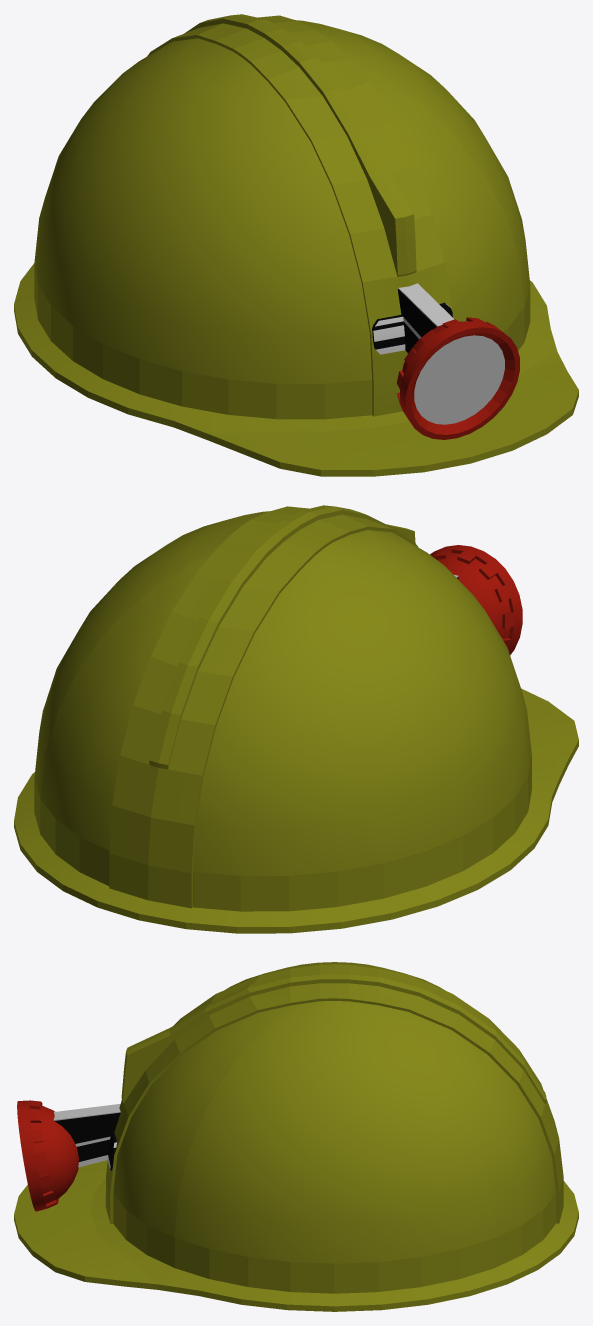
Rendered from mining helmet3.fbx.
The picture shows the model from 3 angles, top to bottom: view 1: azimuth 30°, elevation 25°; view 2: azimuth 150°, elevation 25°; view 3: azimuth 270°, elevation 25°; orthographic projection. The views are drawn at different scales.
Visible parts, largest first — view 1: helmet3, Object001, light, Box001; view 2: helmet3, Object001, light; view 3: helmet3, Object001, light, Box001.
Part boxes in pixels (bbox=[...]): helmet3: bbox=[14, 20, 578, 476]; Object001: bbox=[147, 14, 453, 416]; light: bbox=[397, 317, 519, 439]; Box001: bbox=[372, 283, 453, 354]; helmet3: bbox=[14, 511, 578, 933]; Object001: bbox=[109, 505, 418, 908]; light: bbox=[430, 545, 522, 655]; helmet3: bbox=[14, 962, 578, 1311]; Object001: bbox=[105, 964, 563, 1223]; light: bbox=[17, 1100, 78, 1211]; Box001: bbox=[53, 1104, 120, 1170].
Bounding box in the file's own units: 90.58 × 55.1 × 115.
